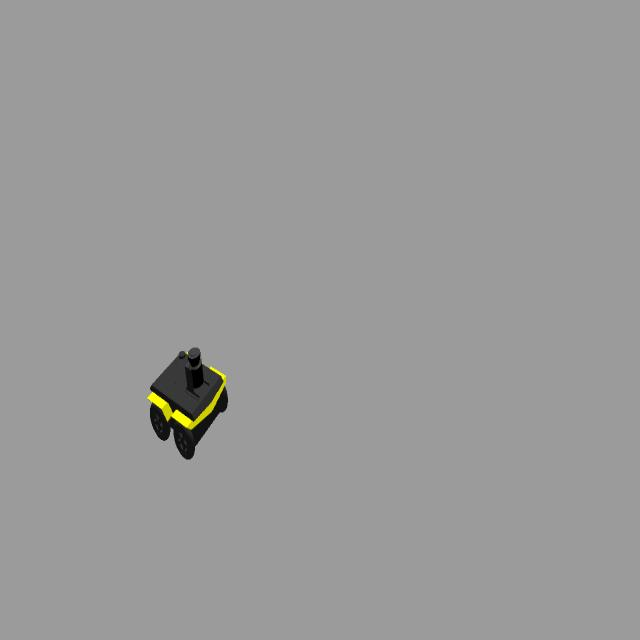jackal: (146, 344, 230, 460)
